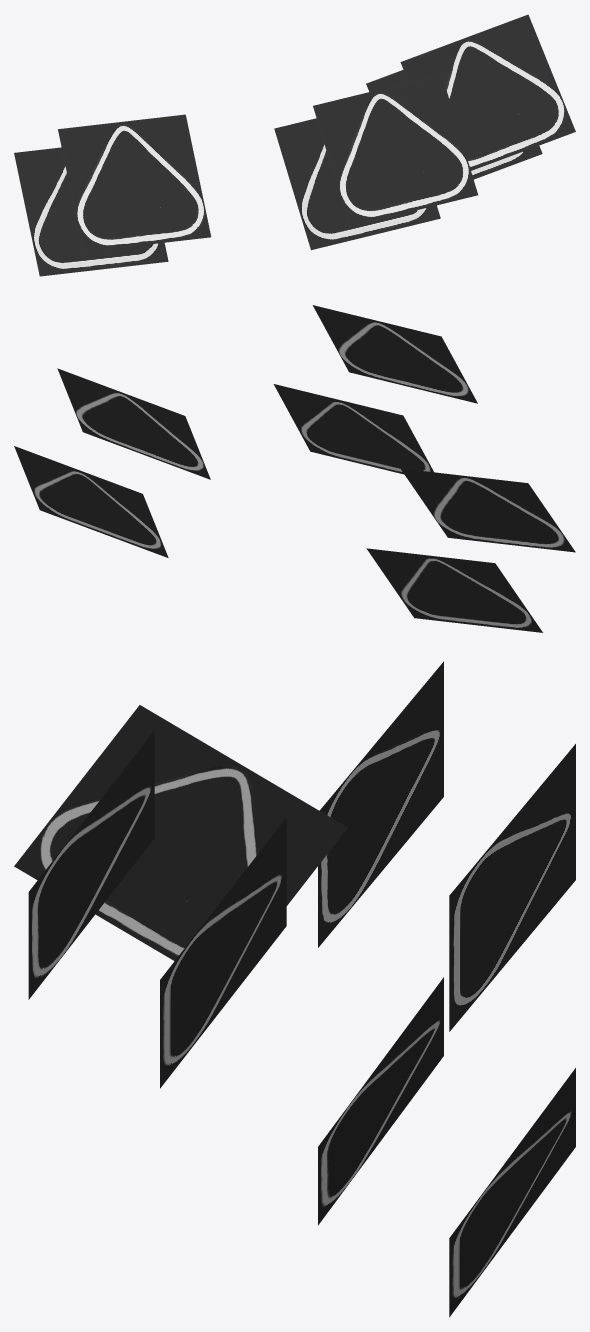
Rendered from provacamera_05.dae.
The picture shows the model from 3 angles, top to bottom: view 1: azimuth 30°, elevation 25°; view 2: azimuth 150°, elevation 25°; view 3: azimuth 270°, elevation 25°; orthographic projection. The views are drawn at different scales.
Visible parts, largest first — view 1: megapattern_top (×3), megapattern_down (×3); view 2: megapattern_down (×3), megapattern_top (×3); view 3: megapattern_down (×3), megapattern_top (×3), megapattern_top.1.
Boxes of the visible parts, bbox=[...] form: megapattern_top (×3): bbox=[58, 14, 575, 251]; megapattern_down (×3): bbox=[14, 70, 542, 276]; megapattern_down (×3): bbox=[14, 384, 542, 632]; megapattern_top (×3): bbox=[57, 305, 575, 552]; megapattern_down (×3): bbox=[160, 744, 575, 1317]; megapattern_top (×3): bbox=[28, 661, 443, 1225]; megapattern_top.1: bbox=[14, 705, 347, 960].
Size of the model in its own units: 147 by 58.58 by 82.68.
2 materials, 2 textured.
